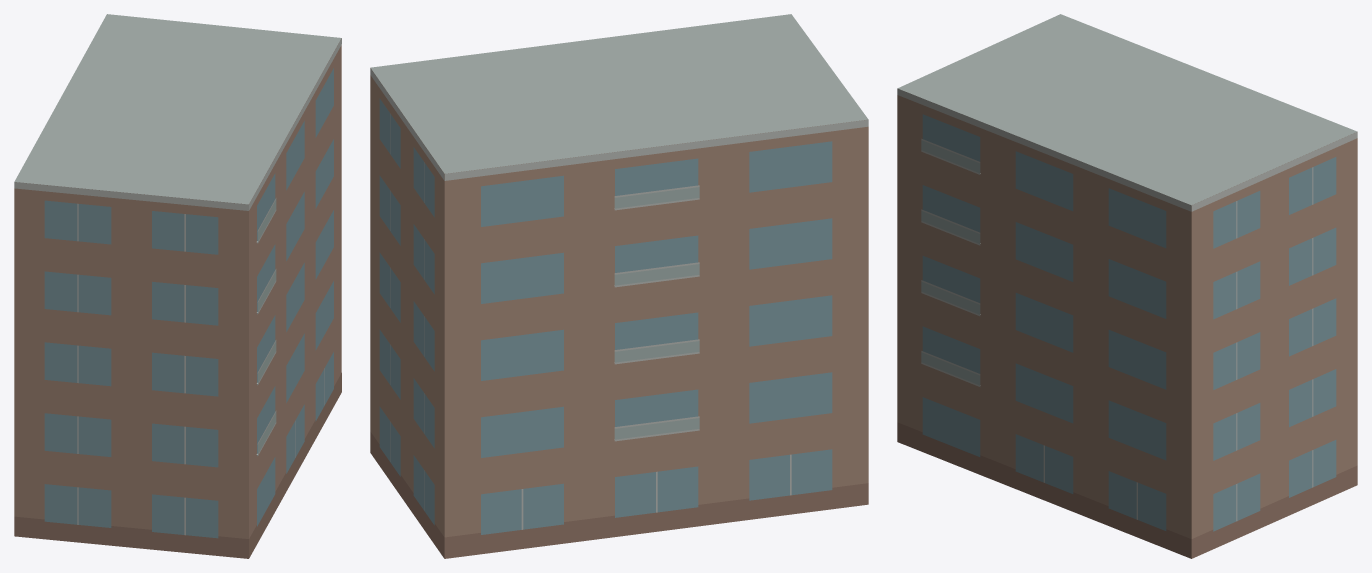
Rendered from survey-upis-32881485.glb.
3 renders of one model, left to right at view 1: azimuth 30°, elevation 25°; view 2: azimuth 150°, elevation 25°; view 3: azimuth 270°, elevation 25°, orthographic. The views are drawn at different scales.
Visible parts, largest first — view 1: survey-upis-32881485.tmp; view 2: survey-upis-32881485.tmp; view 3: survey-upis-32881485.tmp.
Part boxes in pixels (x1,y1,x2,y2): survey-upis-32881485.tmp: [14, 14, 341, 558]; survey-upis-32881485.tmp: [370, 14, 868, 558]; survey-upis-32881485.tmp: [897, 14, 1357, 558].
Bounding box in the file's own units: 15.33 × 13.2 × 15.58.
